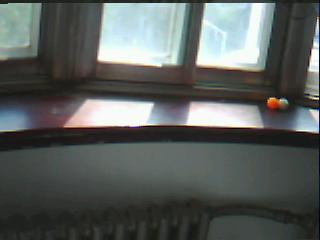oball: (267, 97, 278, 109)
